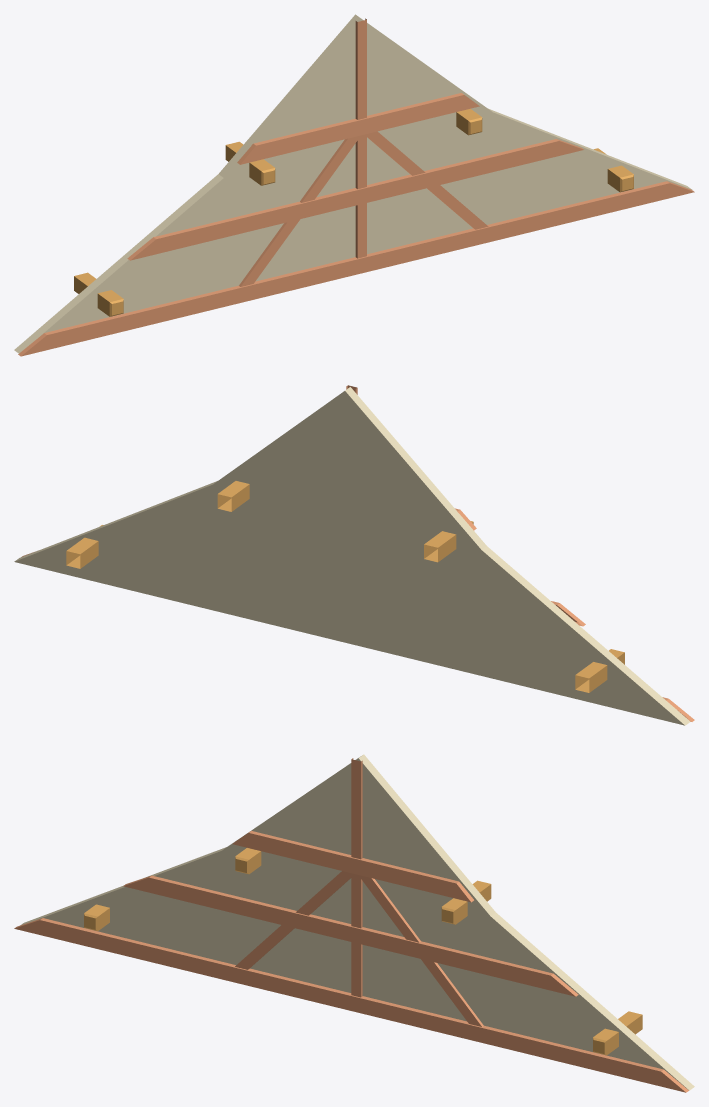
Rendered from Gable_medium2.fbx.
The picture shows the model from 3 angles, top to bottom: view 1: azimuth 30°, elevation 25°; view 2: azimuth 150°, elevation 25°; view 3: azimuth 330°, elevation 25°; orthographic projection.
Visible parts, largest first — view 1: Gable_medium2_wall_low, Gable_medium2_woodplank_low, Gable_medium2_woodbeam_low; view 2: Gable_medium2_wall_low, Gable_medium2_woodbeam_low, Gable_medium2_woodplank_low; view 3: Gable_medium2_wall_low, Gable_medium2_woodplank_low, Gable_medium2_woodbeam_low.
Boxes of the visible parts, x1=… form: Gable_medium2_wall_low: x1=14, y1=14, x2=692, y2=353; Gable_medium2_woodplank_low: x1=18, y1=18, x2=694, y2=356; Gable_medium2_woodbeam_low: x1=74, y1=108, x2=633, y2=316; Gable_medium2_wall_low: x1=14, y1=387, x2=690, y2=725; Gable_medium2_woodbeam_low: x1=66, y1=481, x2=624, y2=692; Gable_medium2_woodplank_low: x1=22, y1=385, x2=694, y2=721; Gable_medium2_wall_low: x1=20, y1=754, x2=694, y2=1090; Gable_medium2_woodplank_low: x1=14, y1=758, x2=688, y2=1092; Gable_medium2_woodbeam_low: x1=84, y1=848, x2=642, y2=1055.
Bounding box in the file's own units: 1402 × 502 × 132.
